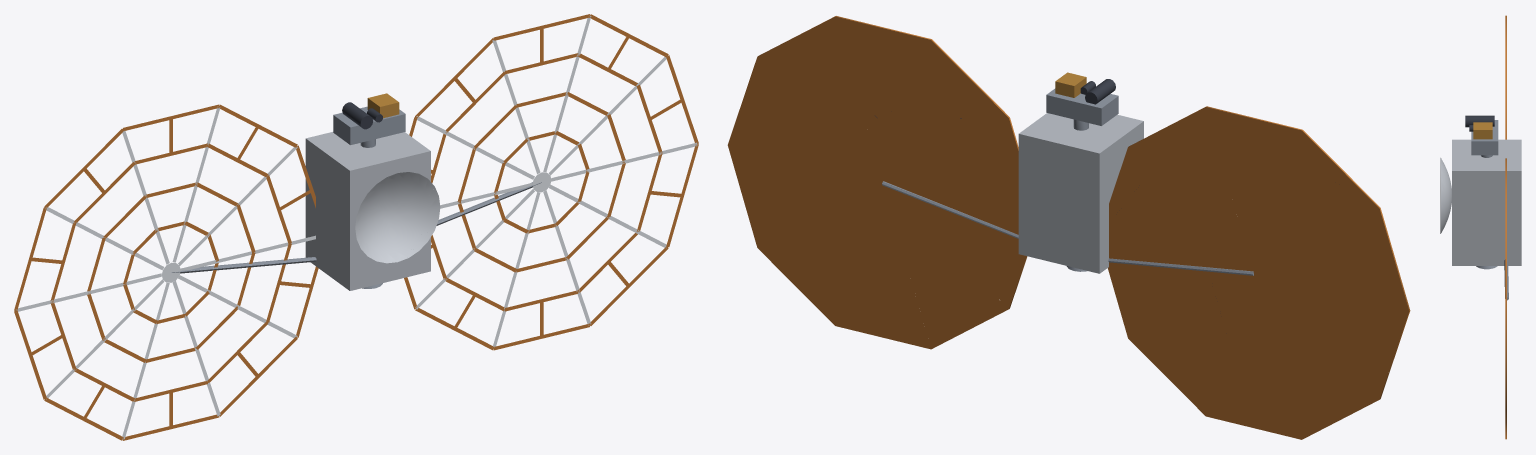
Rendered from lucy.glb.
The picture shows the model from 3 angles, left to right: view 1: azimuth 30°, elevation 25°; view 2: azimuth 150°, elevation 25°; view 3: azimuth 270°, elevation 25°; orthographic projection. The views are drawn at different scales.
Visible parts, largest first — view 1: body, foil; view 2: body, foil; view 3: foil, body.
Part boxes in pixels (box(x1,y1,x2,y2)): body: box(14, 14, 698, 440); foil: box(305, 93, 430, 290); body: box(727, 16, 1410, 439); foil: box(1018, 72, 1143, 273); foil: box(1452, 122, 1521, 265); body: box(1440, 15, 1508, 439).
Size of the model in its own units: 16.08 by 7.02 by 2.1.
